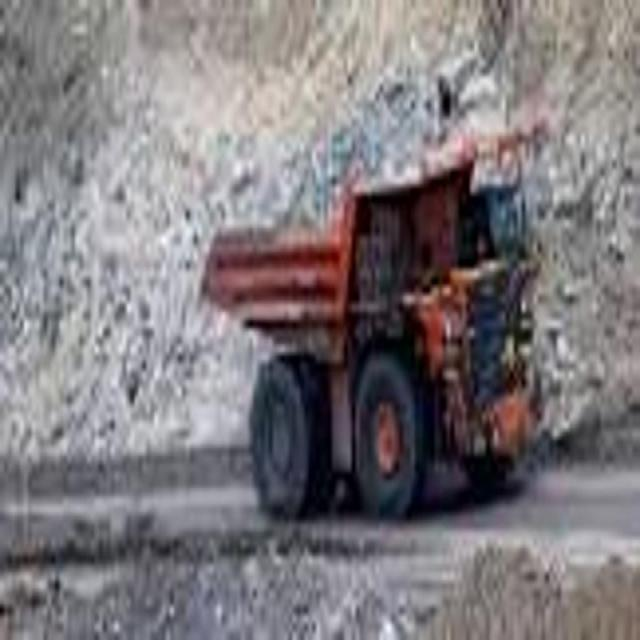dump_truck: (194, 118, 546, 522)
